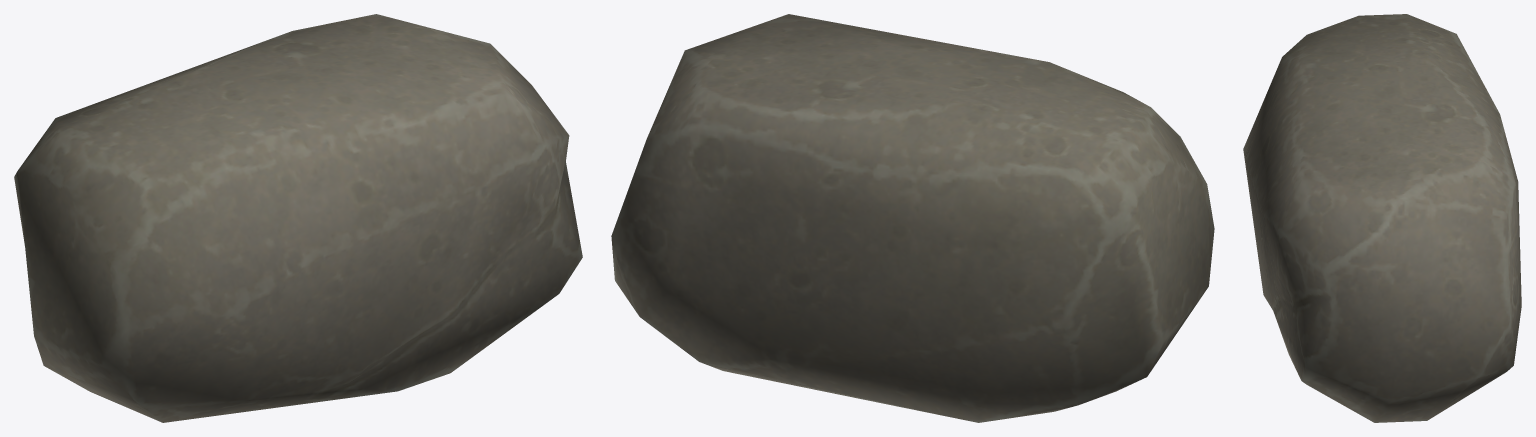
The model's file is MSH_fwOF_Debris_Single_02.fbx.
3 renders of one model, left to right at view 1: azimuth 30°, elevation 25°; view 2: azimuth 150°, elevation 25°; view 3: azimuth 270°, elevation 25°, orthographic. The views are drawn at different scales.
Parts seen in each view (by area): view 1: MSH_fwOF_Debris_Single_02_LOD0; view 2: MSH_fwOF_Debris_Single_02_LOD0; view 3: MSH_fwOF_Debris_Single_02_LOD0.
Boxes of the visible parts, box(x1,y1,x2,y2) form: MSH_fwOF_Debris_Single_02_LOD0: box(14, 14, 582, 422); MSH_fwOF_Debris_Single_02_LOD0: box(611, 14, 1214, 422); MSH_fwOF_Debris_Single_02_LOD0: box(1243, 14, 1521, 422).
Size of what is drawn, in the model's own units: 0.5928 by 0.3367 by 0.3391.
